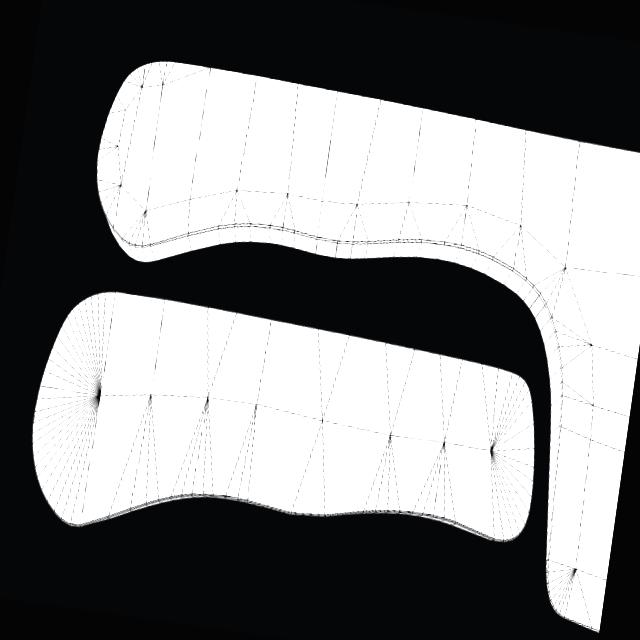cleaver: (55, 49, 640, 616)
